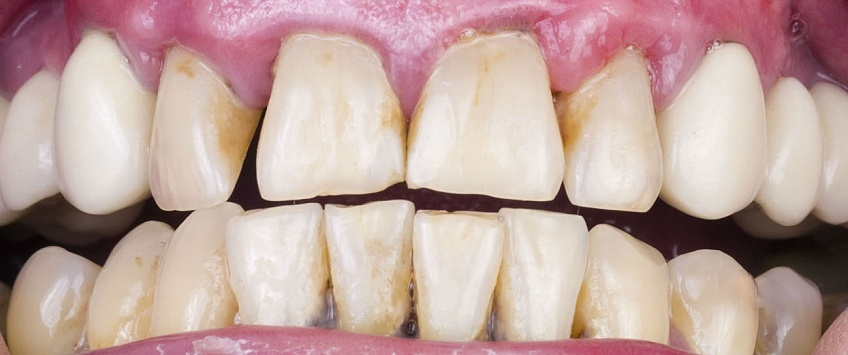LL1BC: (584, 220, 672, 348)
LL1M_healthy: (755, 269, 815, 355)
LL2BC_healthy: (669, 242, 754, 355)
LLC_healthy: (501, 207, 584, 339)
LLLI_healthy: (413, 202, 496, 338)
LR1BC_healthy: (87, 220, 172, 349)
LR2BC_healthy: (8, 237, 83, 352)
LRCI_decay: (326, 197, 413, 338)
LRC_healthy: (160, 201, 241, 336)
LRLI_decay: (232, 212, 326, 329)
UL1BC_healthy: (767, 73, 814, 227)
UL2BC_healthy: (818, 73, 848, 228)
ULCI_decay: (407, 25, 564, 204)
ULC_healthy: (664, 36, 763, 220)
ULLI_decay: (564, 44, 663, 220)
UR1BC_healthy: (1, 66, 57, 209)
URCI_decay: (259, 23, 405, 200)
URC_healthy: (57, 31, 147, 207)
URLI_decay: (149, 44, 256, 207)
